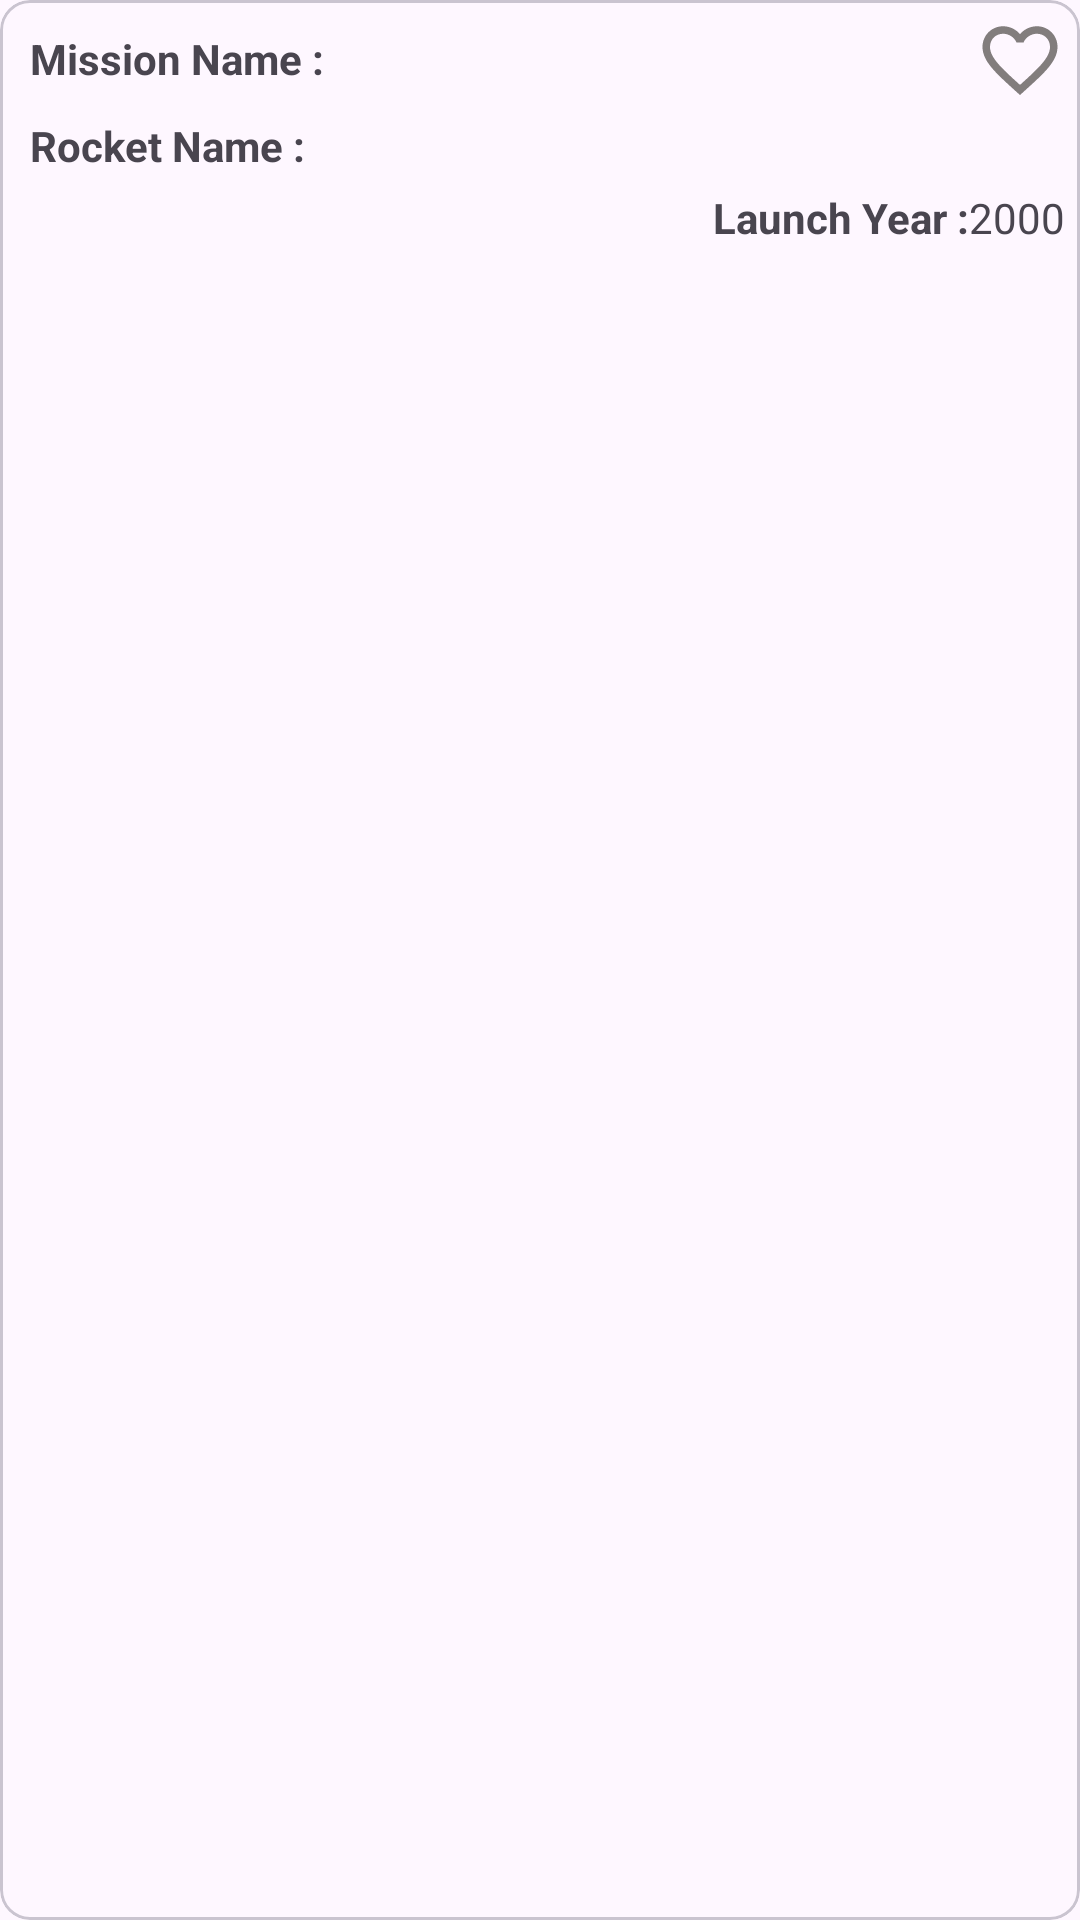

Screen size 1080px×1920px. Icon name, then its box in pixels as (x1, y1, x2, y2):
favorite border: (982, 26, 1058, 95)
